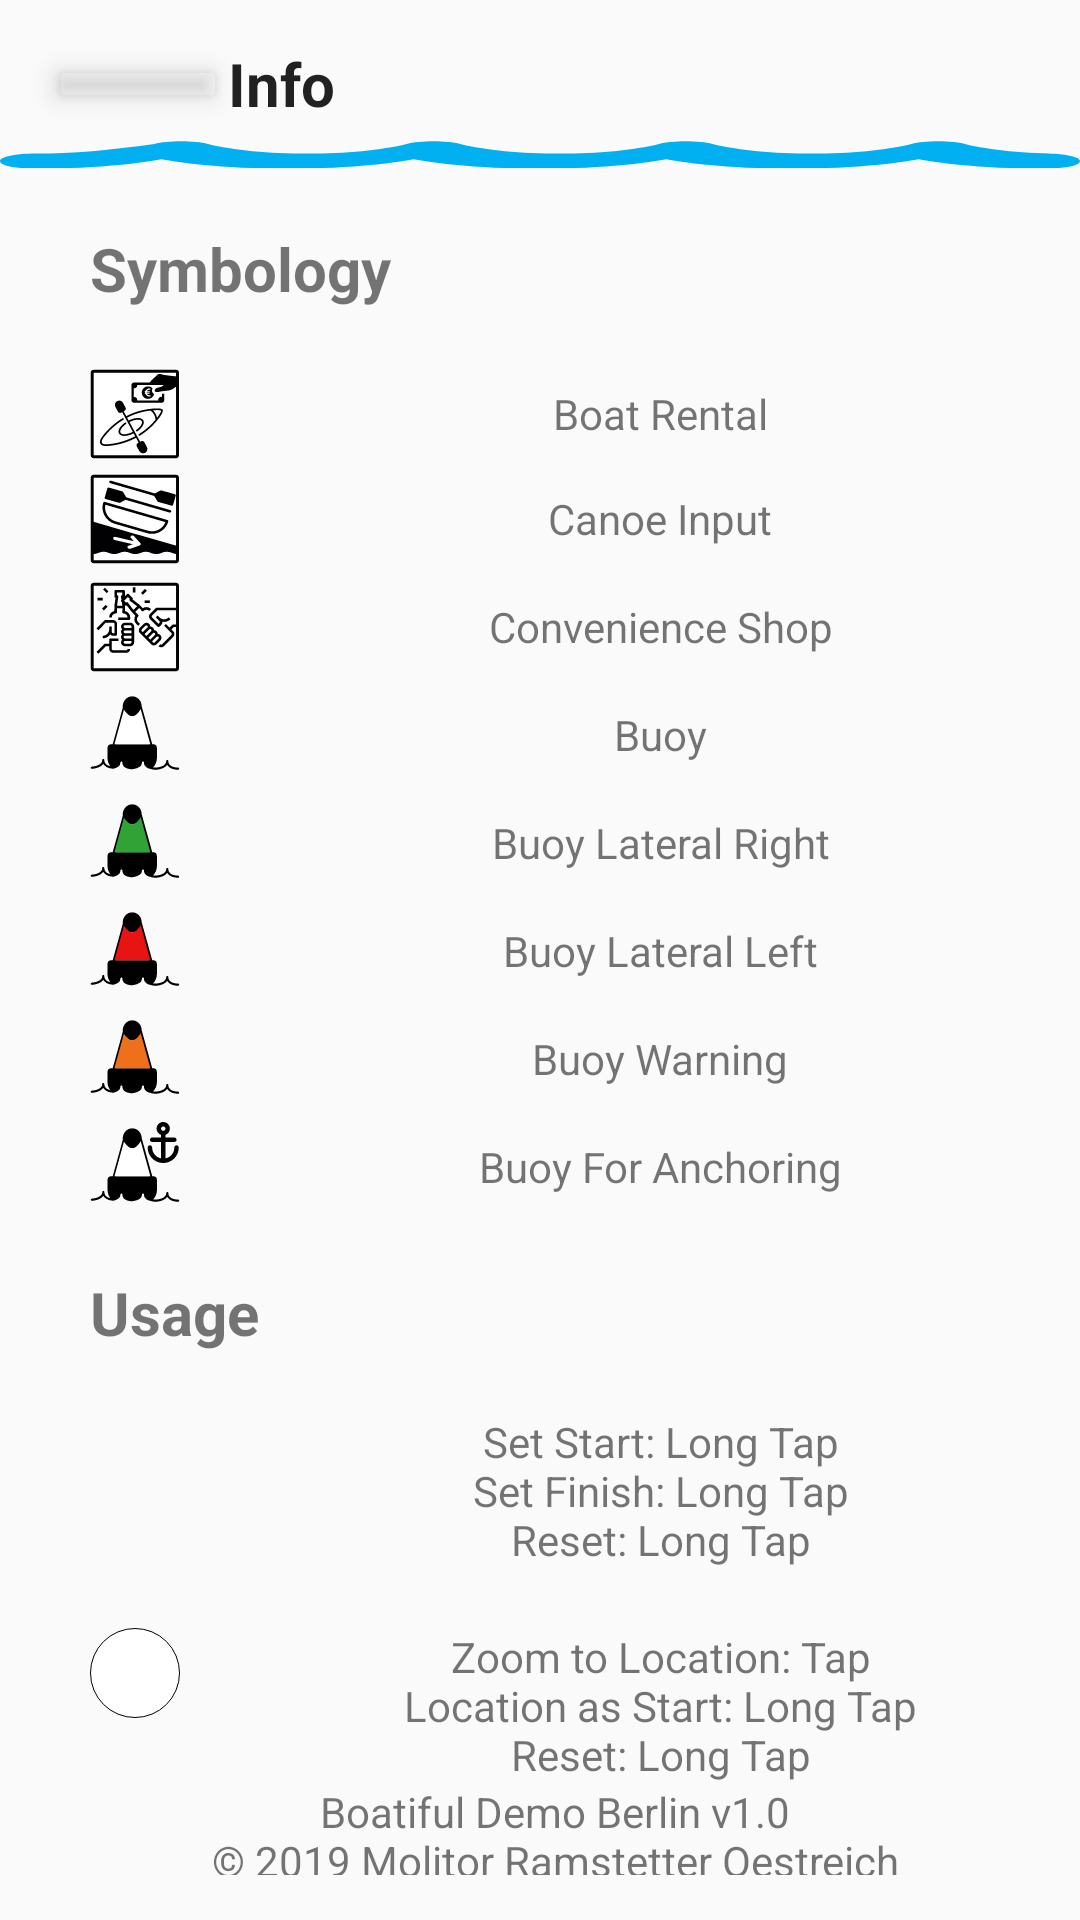

Named icons in this screenshot (1080 × 1920) and their bounding boxes, bbox=(x1, y1, x2, y2):
buoy anchor: bbox=(90, 1122, 180, 1202)
spaeti: bbox=(90, 582, 179, 672)
